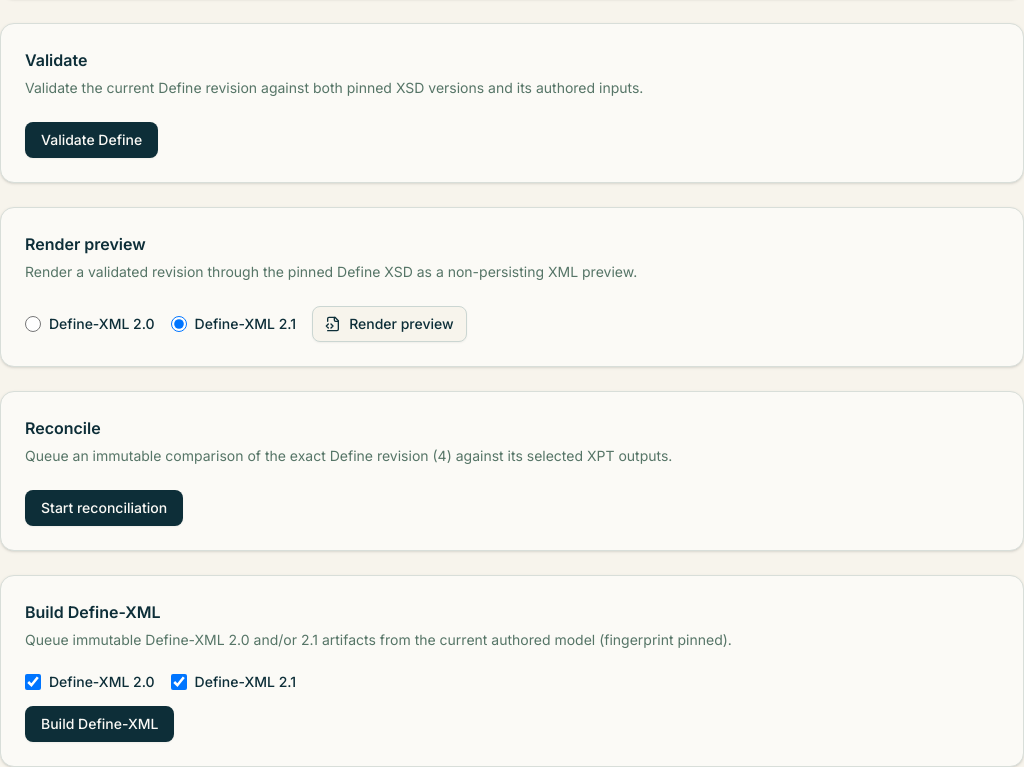
Test: DefinePanel build (Req 18.7, 18.8) › polls the build at 2s to a completed terminal and lists produced artifacts
The image size is (1024, 767).
(page scrolled)
Click the button "Build Define-XML" at (100, 724), box [25,706,174,742]
Wait 2000 ms
(page scrolled)
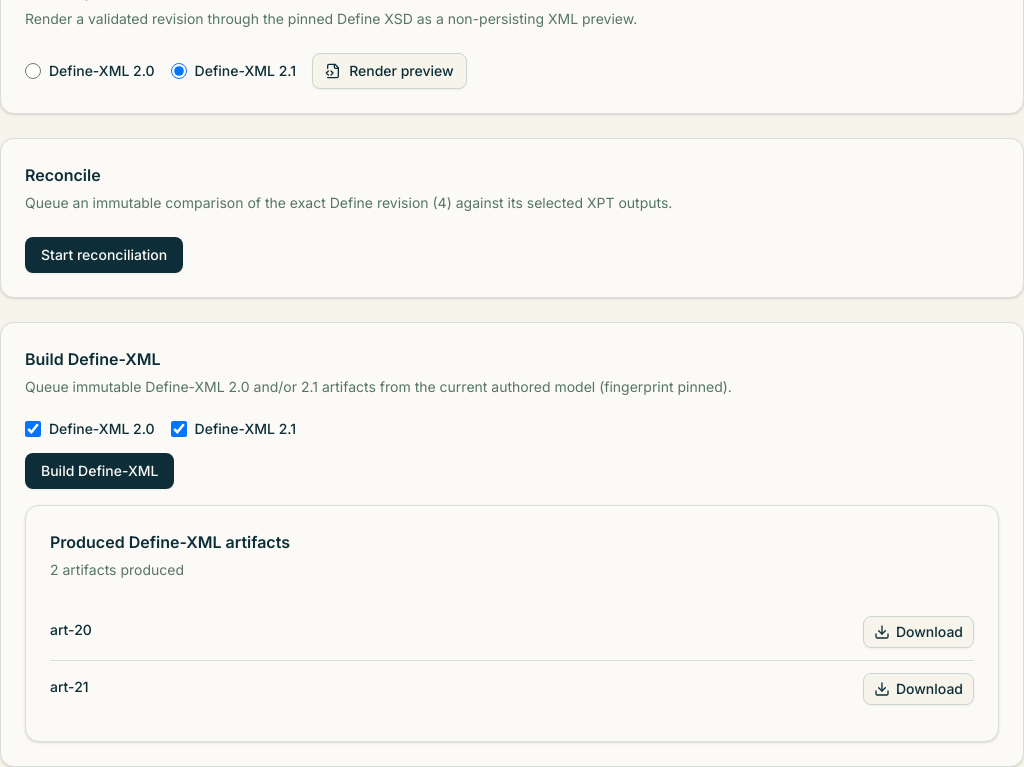
Check: the text "Produced Define-XML artifacts" is shown, box [50,532,290,552]
Check: the number of buttons "Download" is 2, box [863,616,974,648]; [863,673,974,705]
